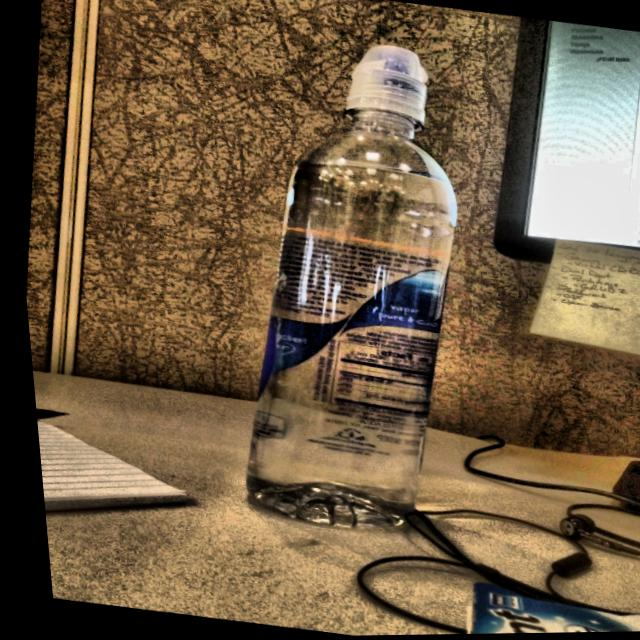Bottles: (191, 0, 516, 569)
